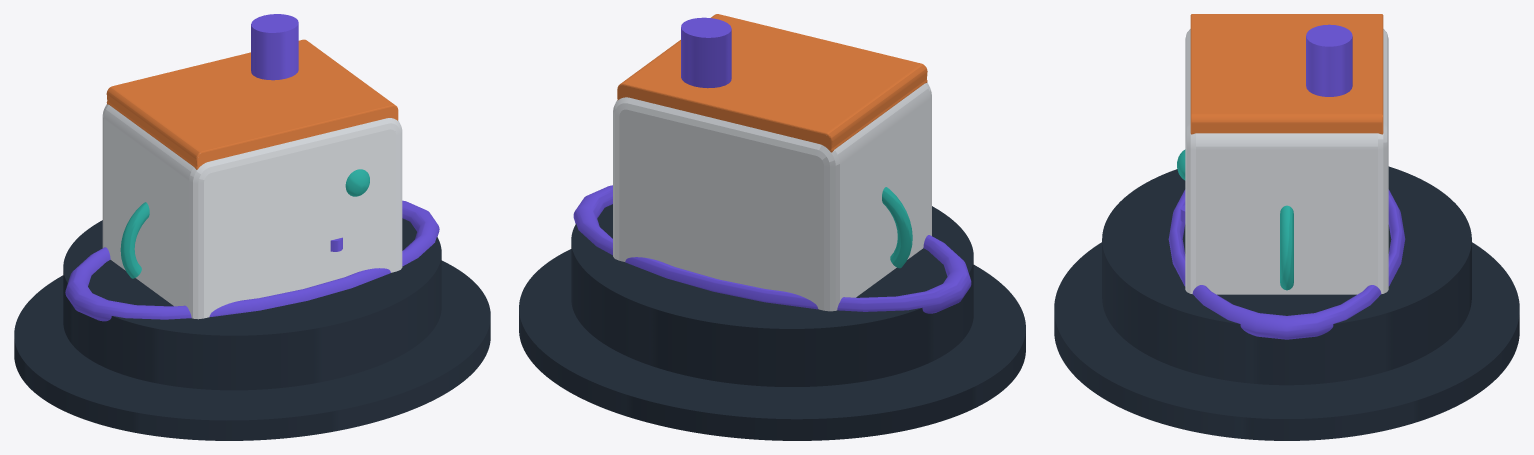
Rendered from 0400_欧洲文明图鉴_旅行者号蒸汽机车.glb.
3 renders of one model, left to right at view 1: azimuth 30°, elevation 25°; view 2: azimuth 150°, elevation 25°; view 3: azimuth 270°, elevation 25°, orthographic. The views are drawn at different scales.
Parts seen in each view (by area): view 1: card_0400; view 2: card_0400; view 3: card_0400.
Boxes of the visible parts, bbox=[...] form: card_0400: bbox=[14, 14, 490, 440]; card_0400: bbox=[519, 14, 1025, 440]; card_0400: bbox=[1054, 14, 1519, 440].
Size of the model in its own units: 1.42 by 1 by 1.26.
